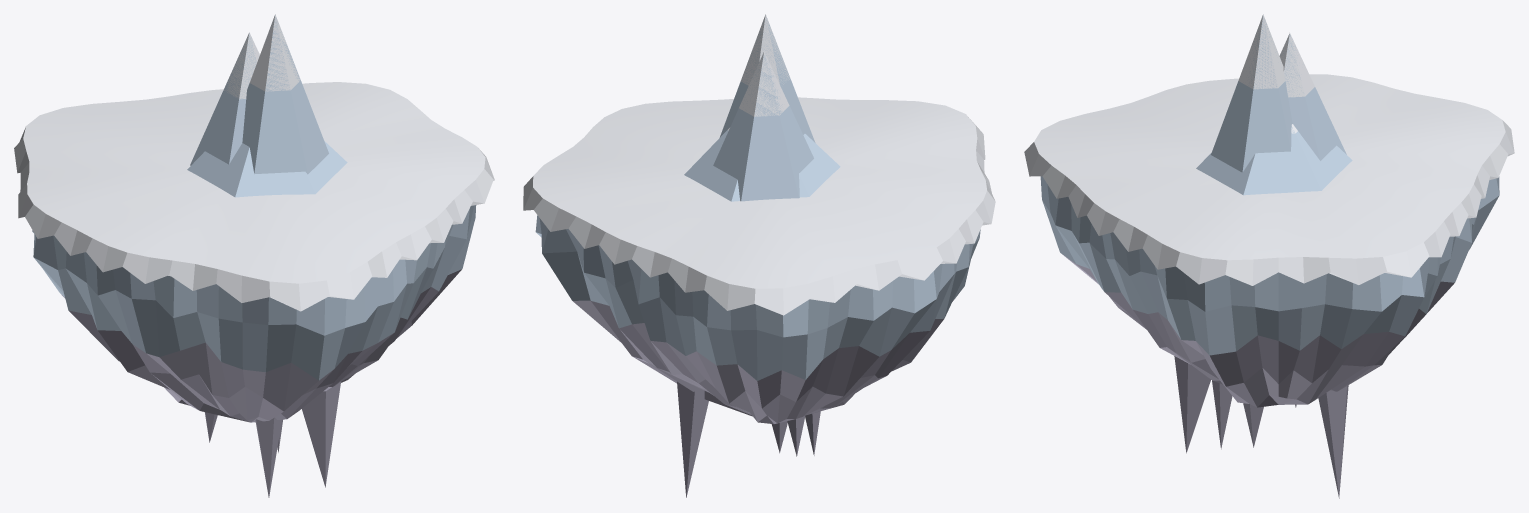
The model's file is island_chilly.glb.
3 renders of one model, left to right at view 1: azimuth 30°, elevation 25°; view 2: azimuth 150°, elevation 25°; view 3: azimuth 270°, elevation 25°, orthographic. The views are drawn at different scales.
Visible parts, largest first — view 1: ChillyIsland; view 2: ChillyIsland; view 3: ChillyIsland.
Boxes of the visible parts, <box> form: ChillyIsland: <box>14,14,494,497</box>; ChillyIsland: <box>523,14,995,497</box>; ChillyIsland: <box>1024,14,1514,498</box>.
Size of the model in its own units: 20.79 by 23.3 by 22.27.
